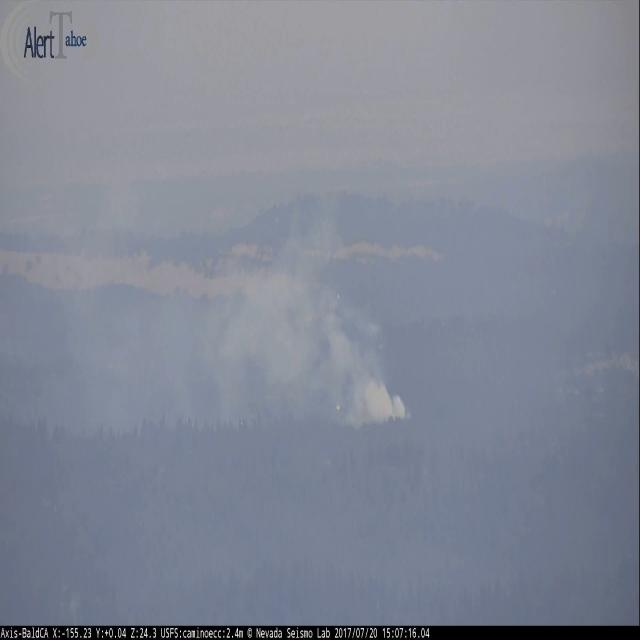smoke: (84, 217, 418, 423)
